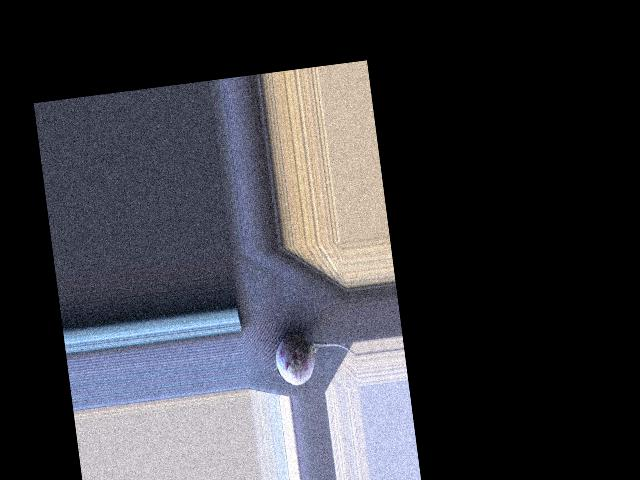beet: (272, 326, 357, 387)
